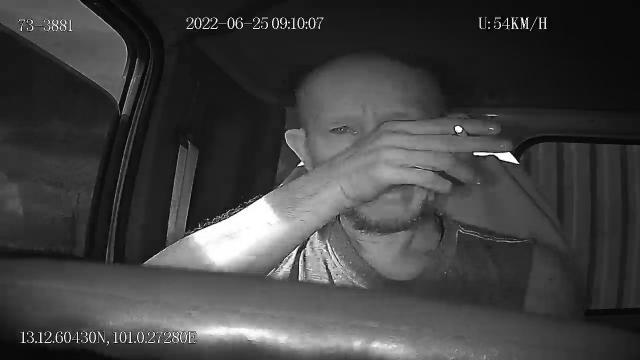Smoking: (454, 124, 470, 136)
